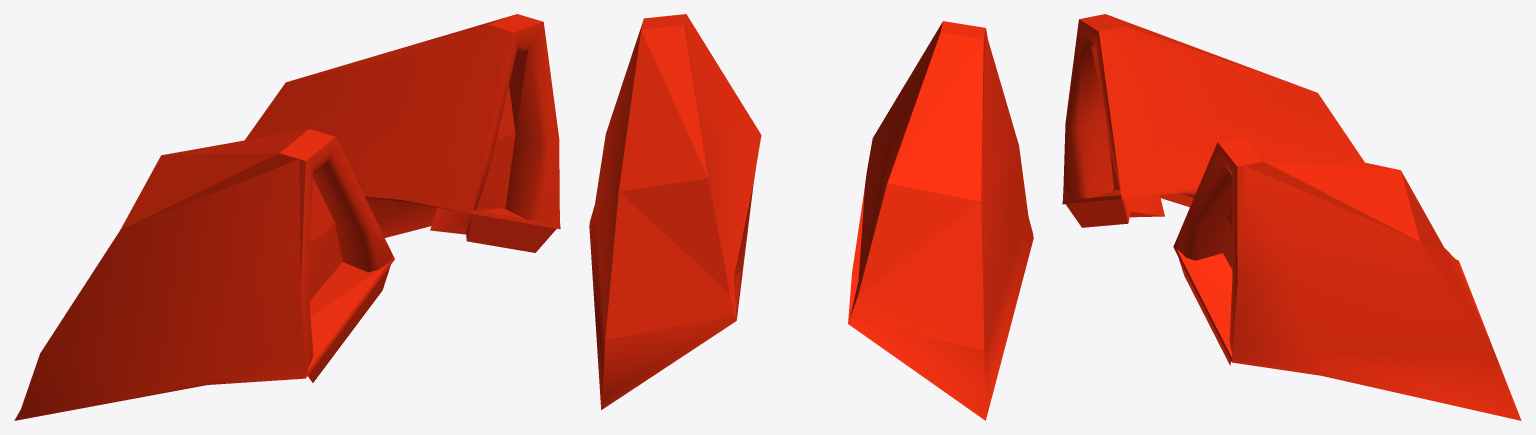
The picture shows the model from 3 angles, left to right: view 1: azimuth 30°, elevation 25°; view 2: azimuth 150°, elevation 25°; view 3: azimuth 270°, elevation 25°; orthographic projection. The views are drawn at different scales.
Visible parts, largest first — view 1: ears_006.001; view 2: ears_006.001; view 3: ears_006.001.
Part boxes in pixels (<box>): ears_006.001: <box>14,14,560,420</box>; ears_006.001: <box>589,14,1033,420</box>; ears_006.001: <box>1062,14,1521,420</box>.
Size of the model in its own units: 90.12 by 80.66 by 60.12.
